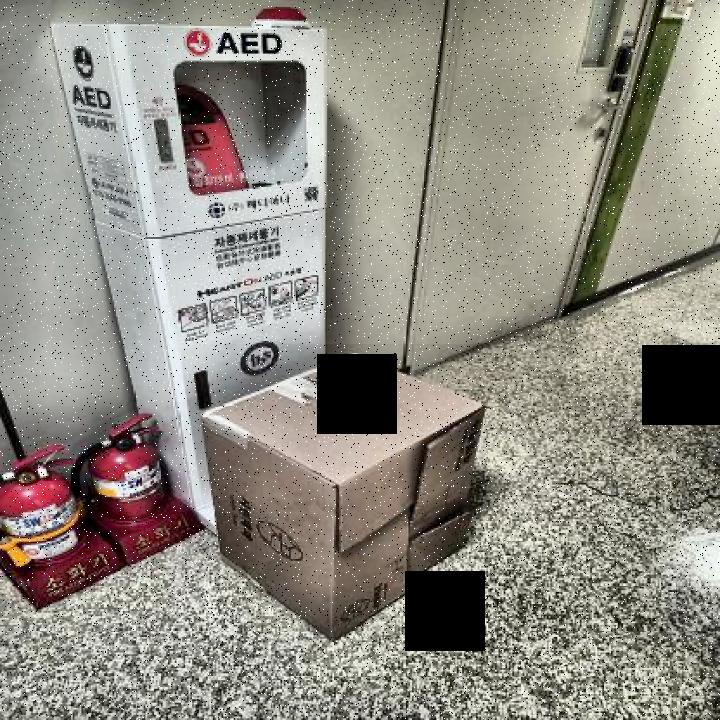box: (183, 344, 508, 643)
